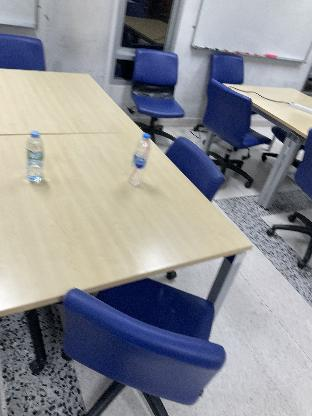Plastic Bottle: (128, 131, 152, 189), (26, 130, 46, 188)
